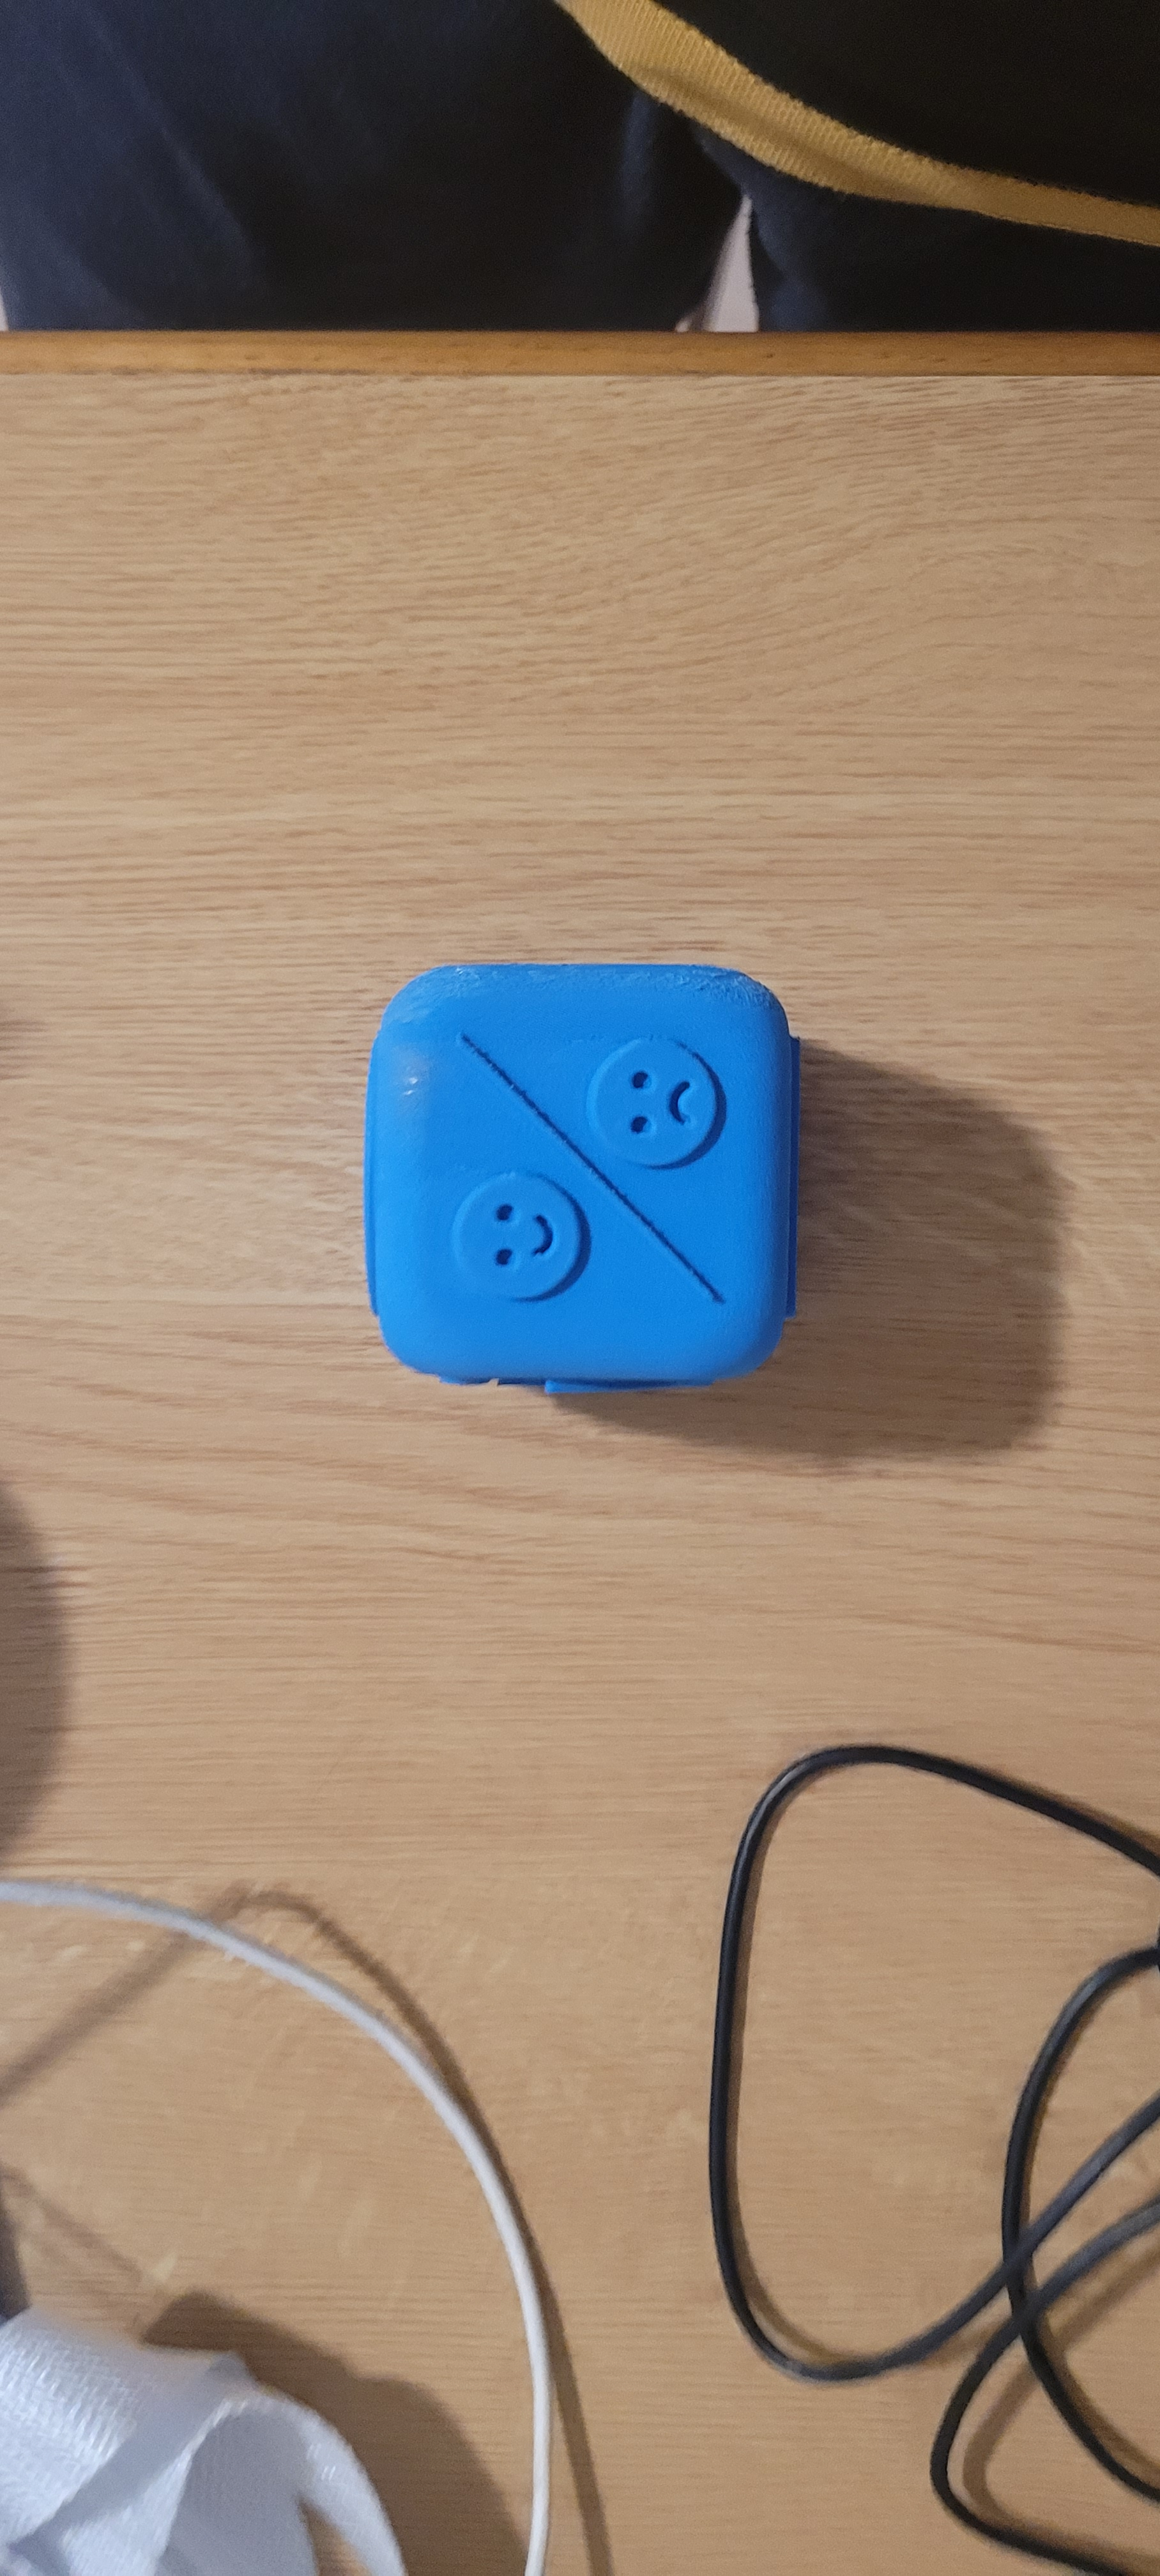Like/Dislike: (450, 997, 771, 1334)
